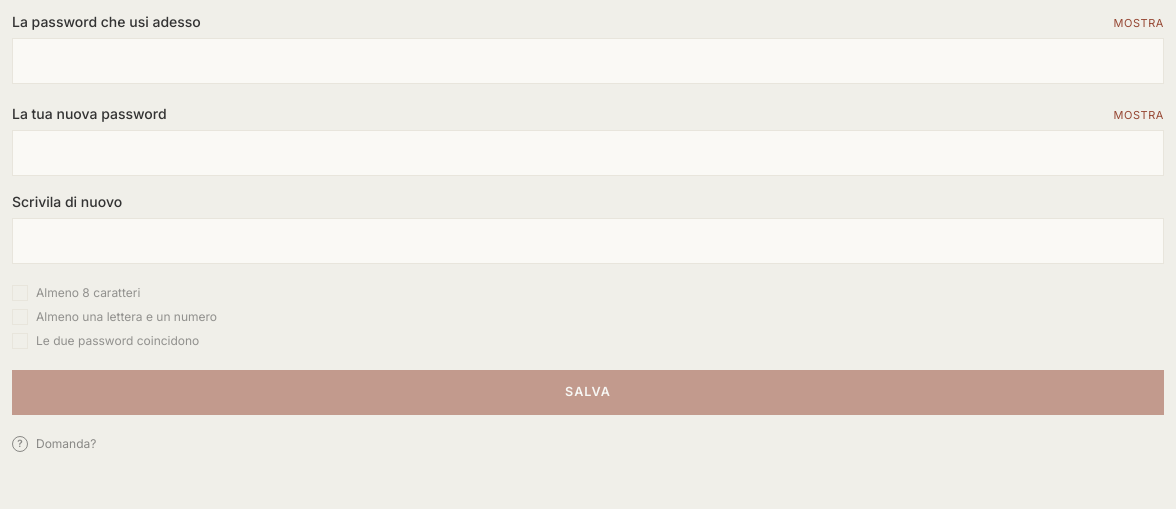
ChangePasswordForm — errore di signIn dopo il salvataggio › un errore inatteso mostra il testo generico, non il testo grezzo
In the password field labelled "La password che usi adesso": (588, 61) [12,38,1164,84], type "Vecchia123"
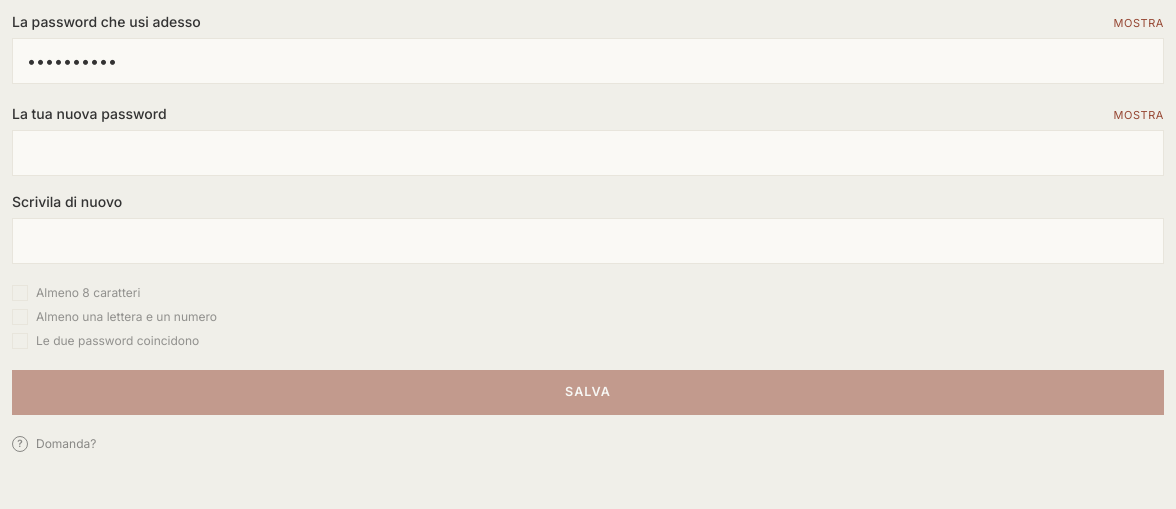
In the password field labelled "La tua nuova password": (588, 153) [12,130,1164,176], type "Password123"
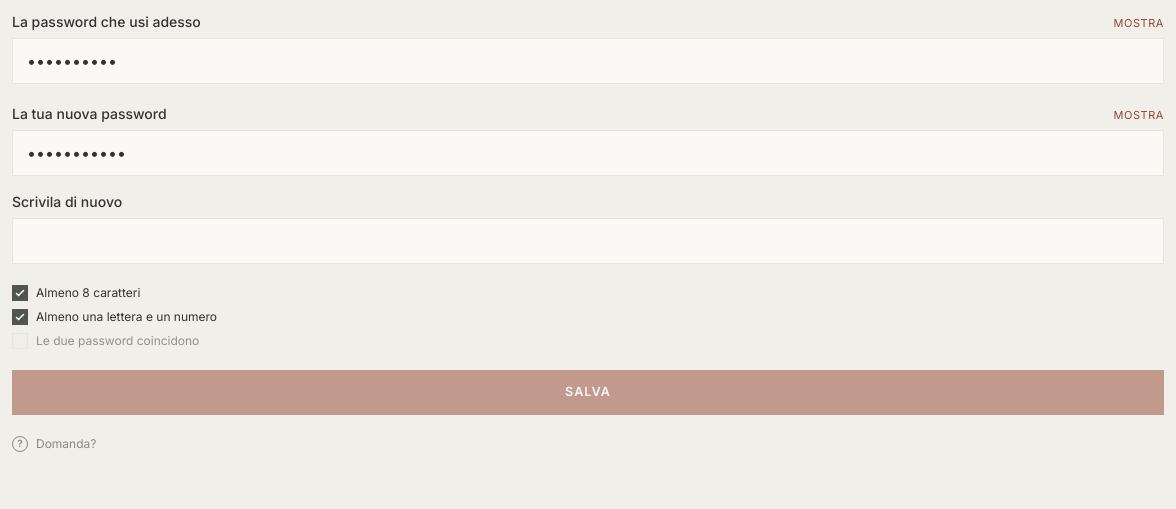
In the password field labelled "Scrivila di nuovo": (588, 241) [12,218,1164,264], type "Password123"
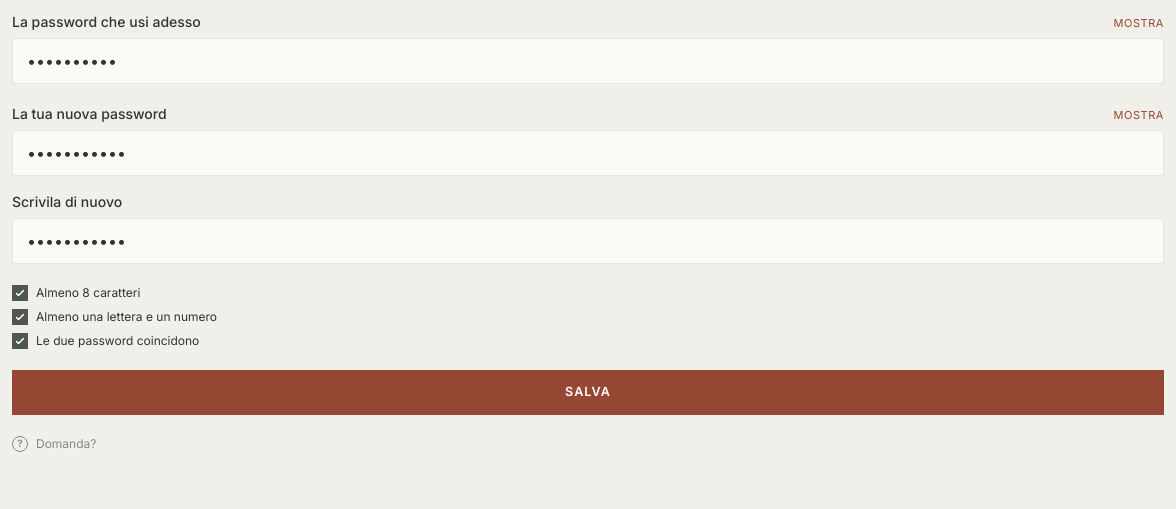
Click the button "Salva": (588, 392) [12,370,1164,415]
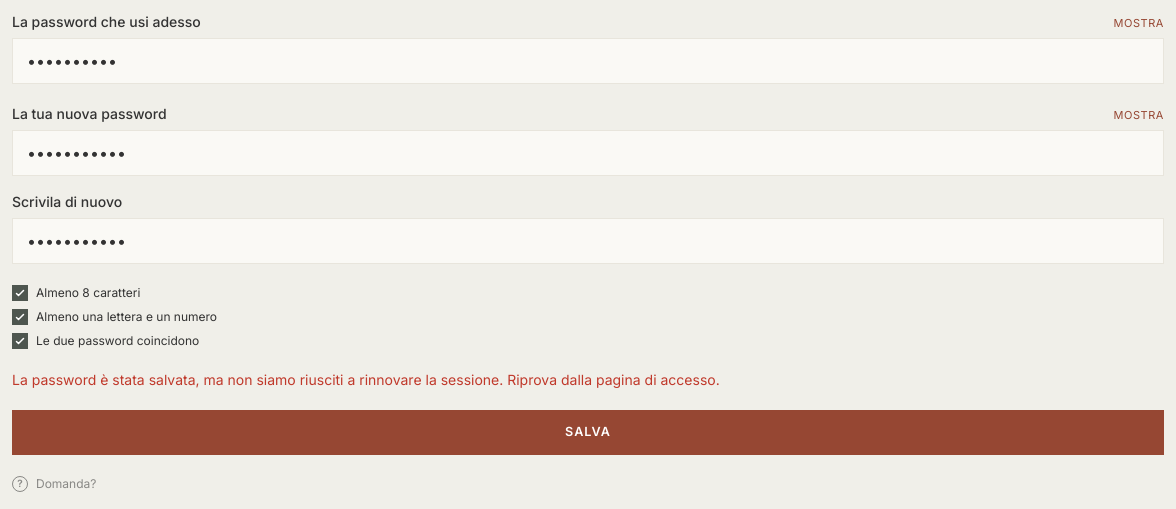
Expected: the text "non siamo riusciti a rinnovare la sessione" is shown, [12,371,720,388]
